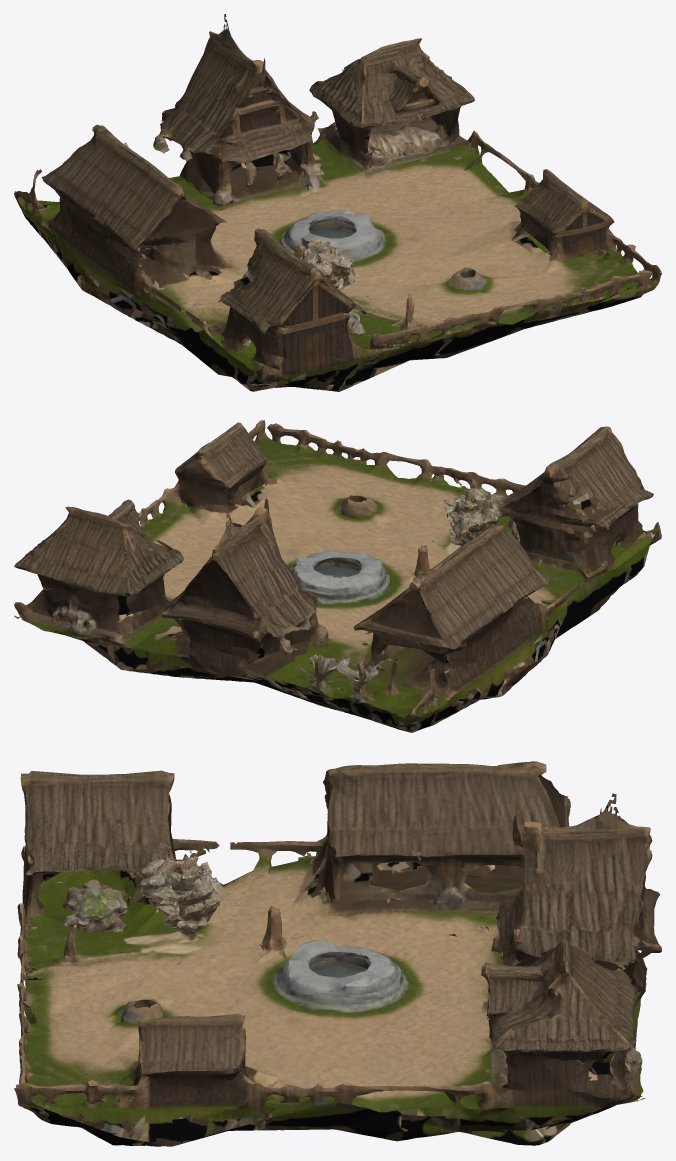
Rendered from orc_town.glb.
The picture shows the model from 3 angles, top to bottom: view 1: azimuth 30°, elevation 25°; view 2: azimuth 150°, elevation 25°; view 3: azimuth 270°, elevation 25°; orthographic projection. The views are drawn at different scales.
Parts seen in each view (by area): view 1: output_unwrapped; view 2: output_unwrapped; view 3: output_unwrapped.
Boxes of the visible parts, x1,y1,x2,y2 form: output_unwrapped: [14, 14, 661, 391]; output_unwrapped: [14, 420, 661, 732]; output_unwrapped: [14, 761, 661, 1146].
Bounding box in the file's own units: 1.75 × 0.7462 × 1.83.
Materials: 1 (1 with a texture image).
